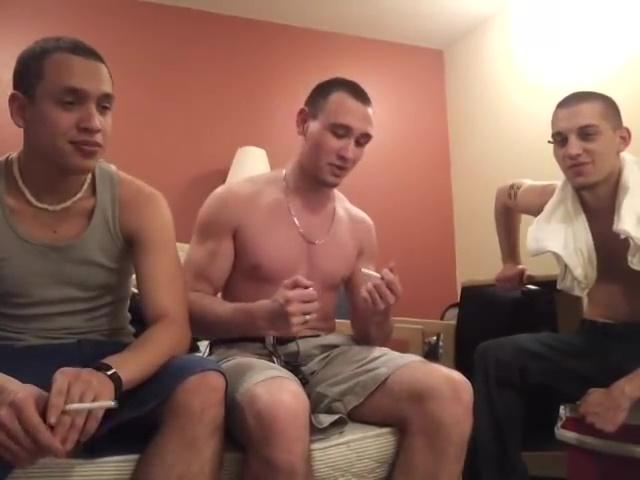cigarette: (59, 396, 120, 416), (358, 265, 386, 281)
